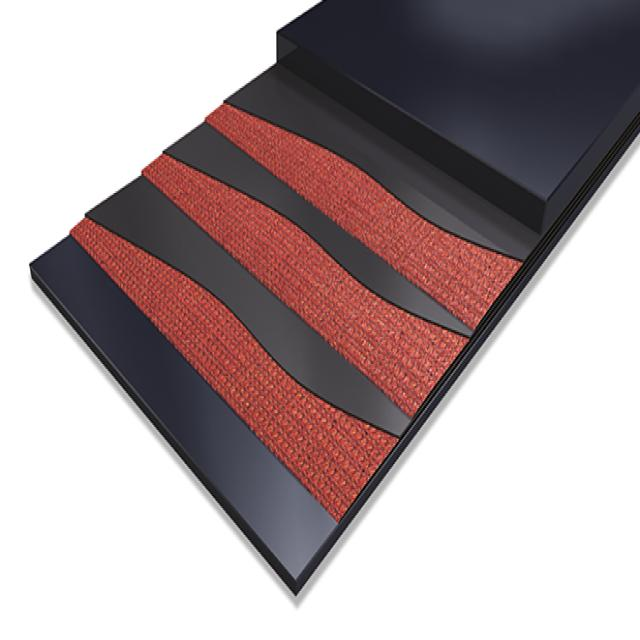conveyor: (26, 0, 627, 606)
